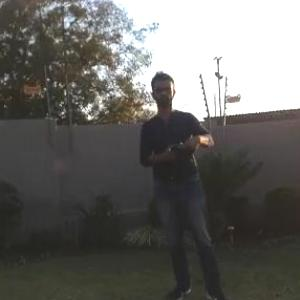follow: (133, 64, 233, 299)
